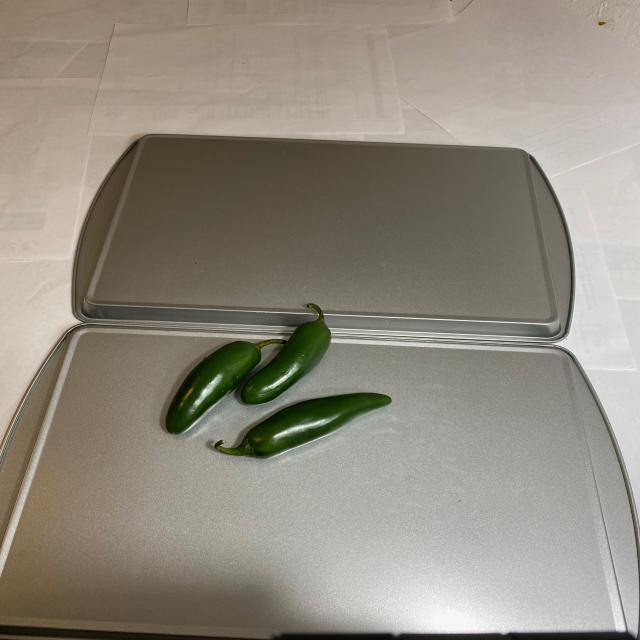chilli: (162, 299, 398, 459)
